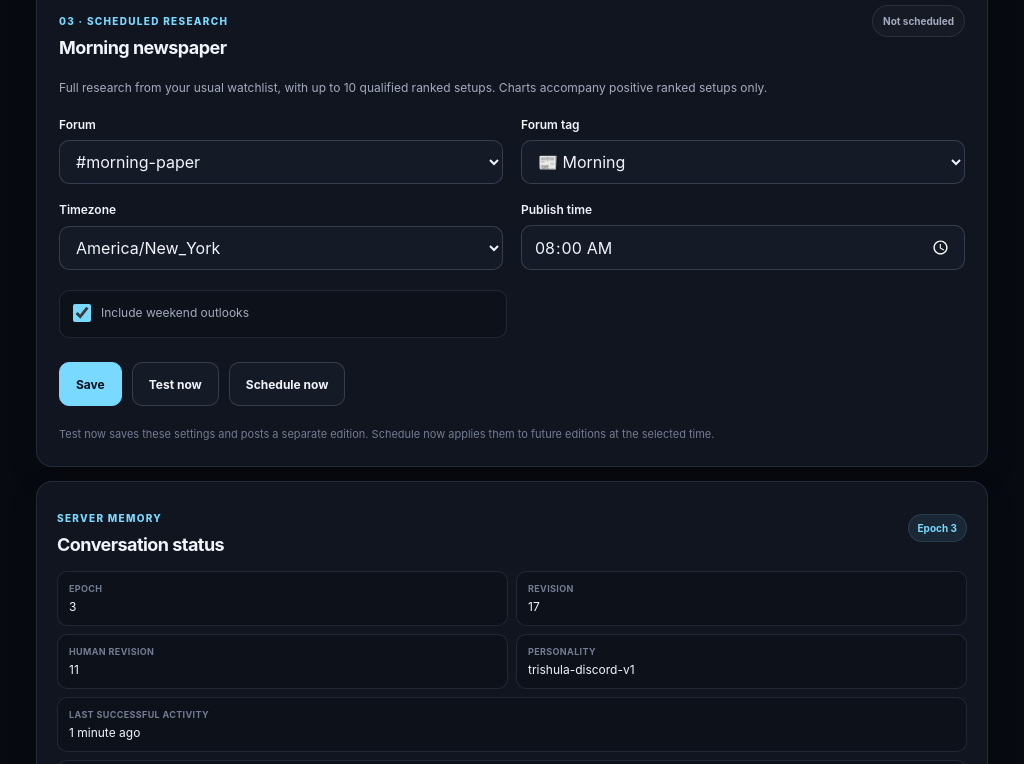
Discord control surface › does not queue a test when saving fails
(page scrolled)
What coordinates should you click on to do the following:
click the button "Test now"
I would click on:
 (175, 384)
Its box is [132,362,219,406].
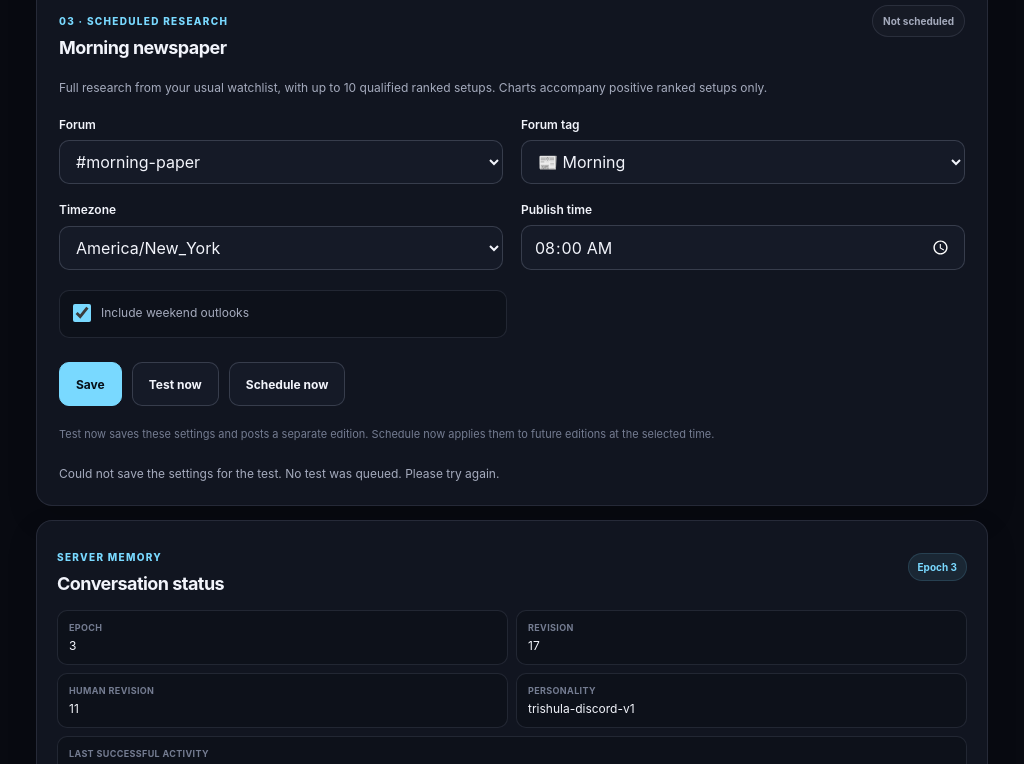
Result: the text "Could not save the settings for the test" is shown at [59,466,499,481]
